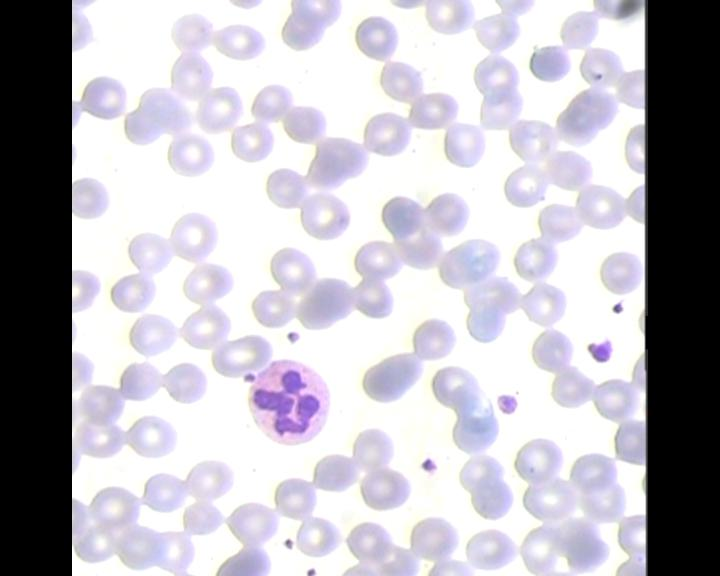neut: (242, 359, 334, 449)
